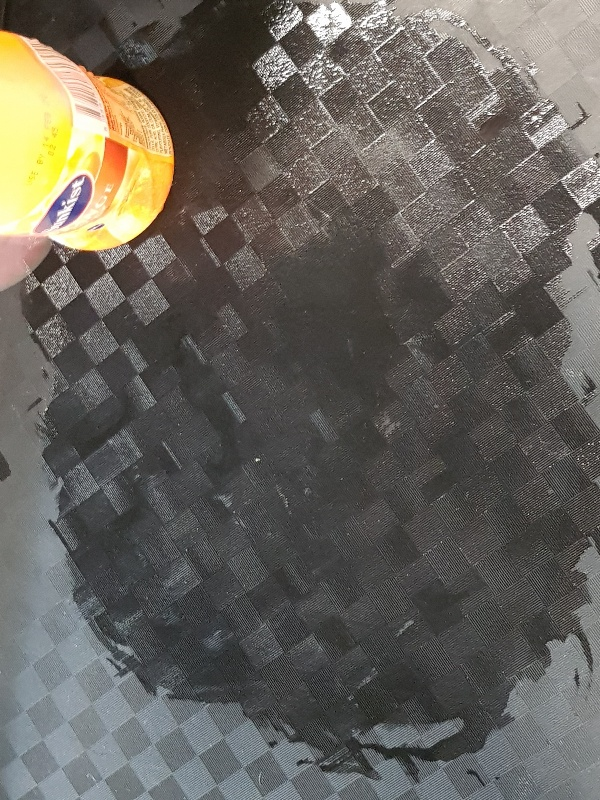Sunkist Orange Juice Drink: (1, 28, 175, 253)
